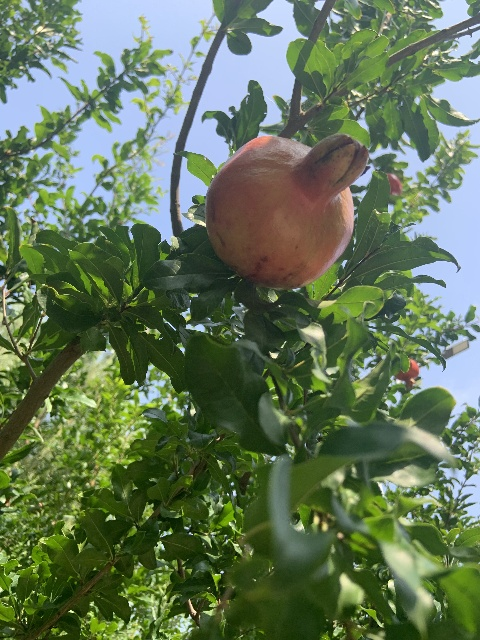ripe: (204, 133, 368, 289), (394, 357, 419, 388), (386, 173, 402, 203)
